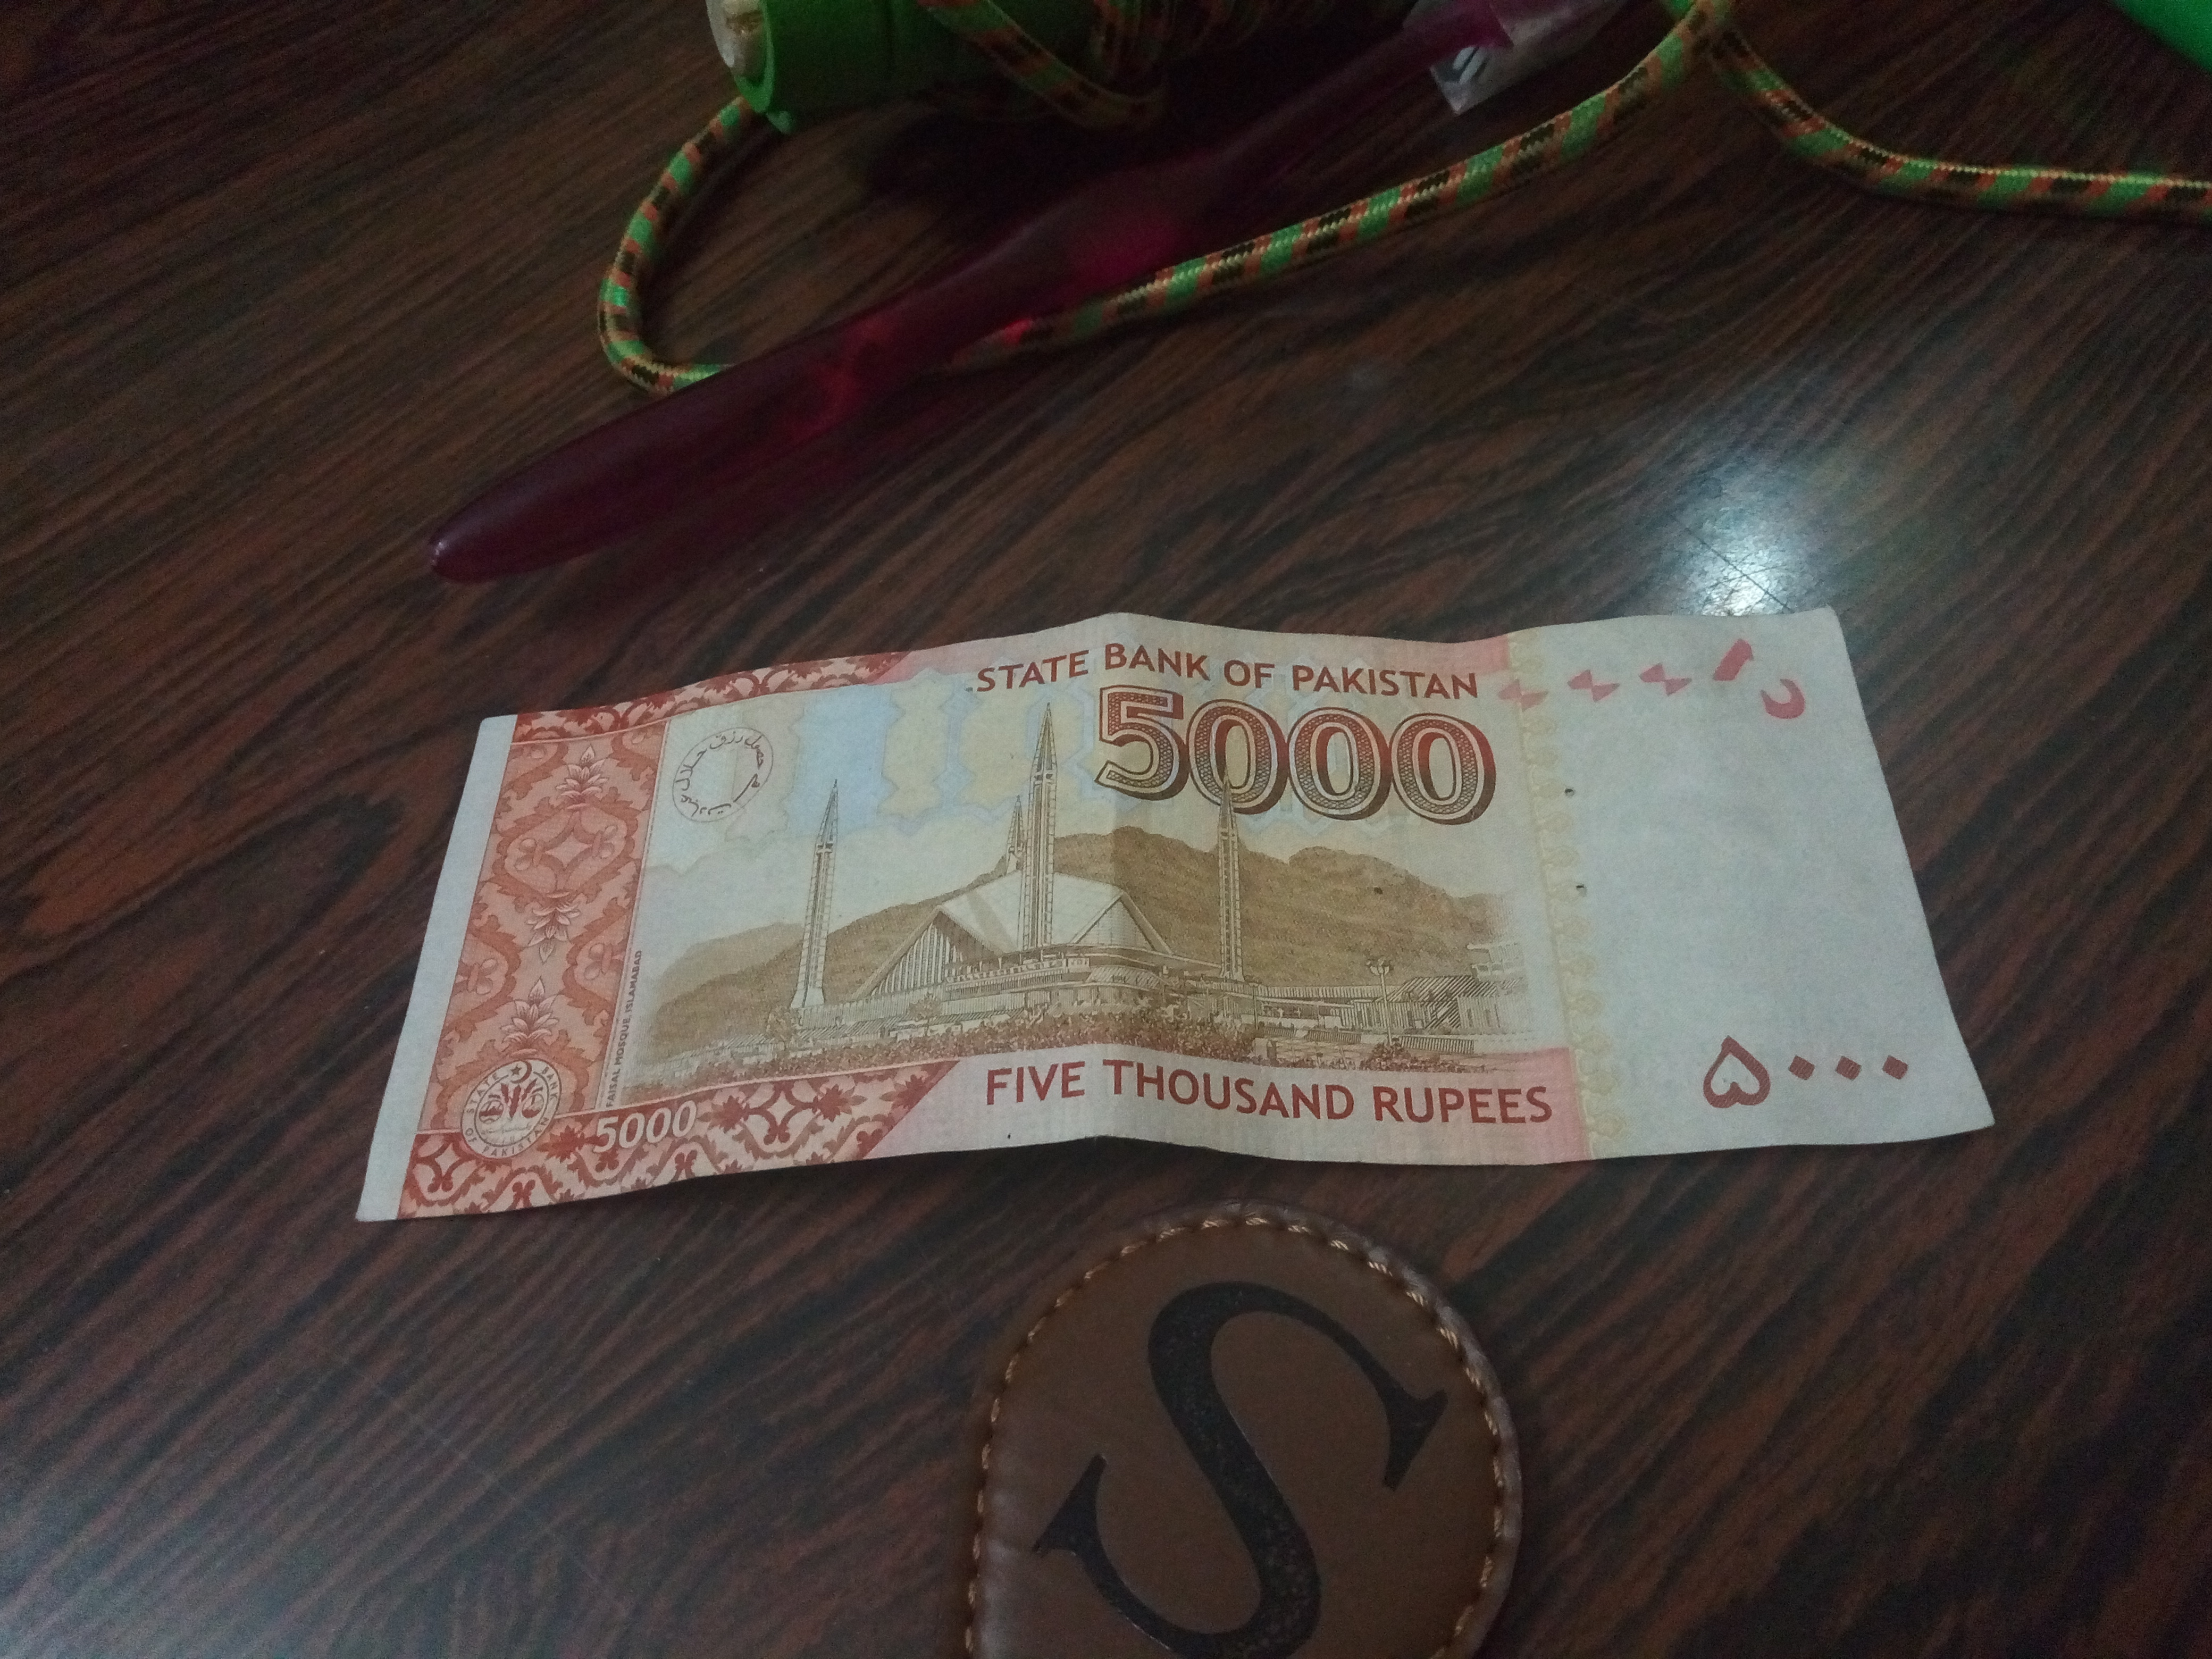5000 rupee: (336, 509, 2066, 1359)
